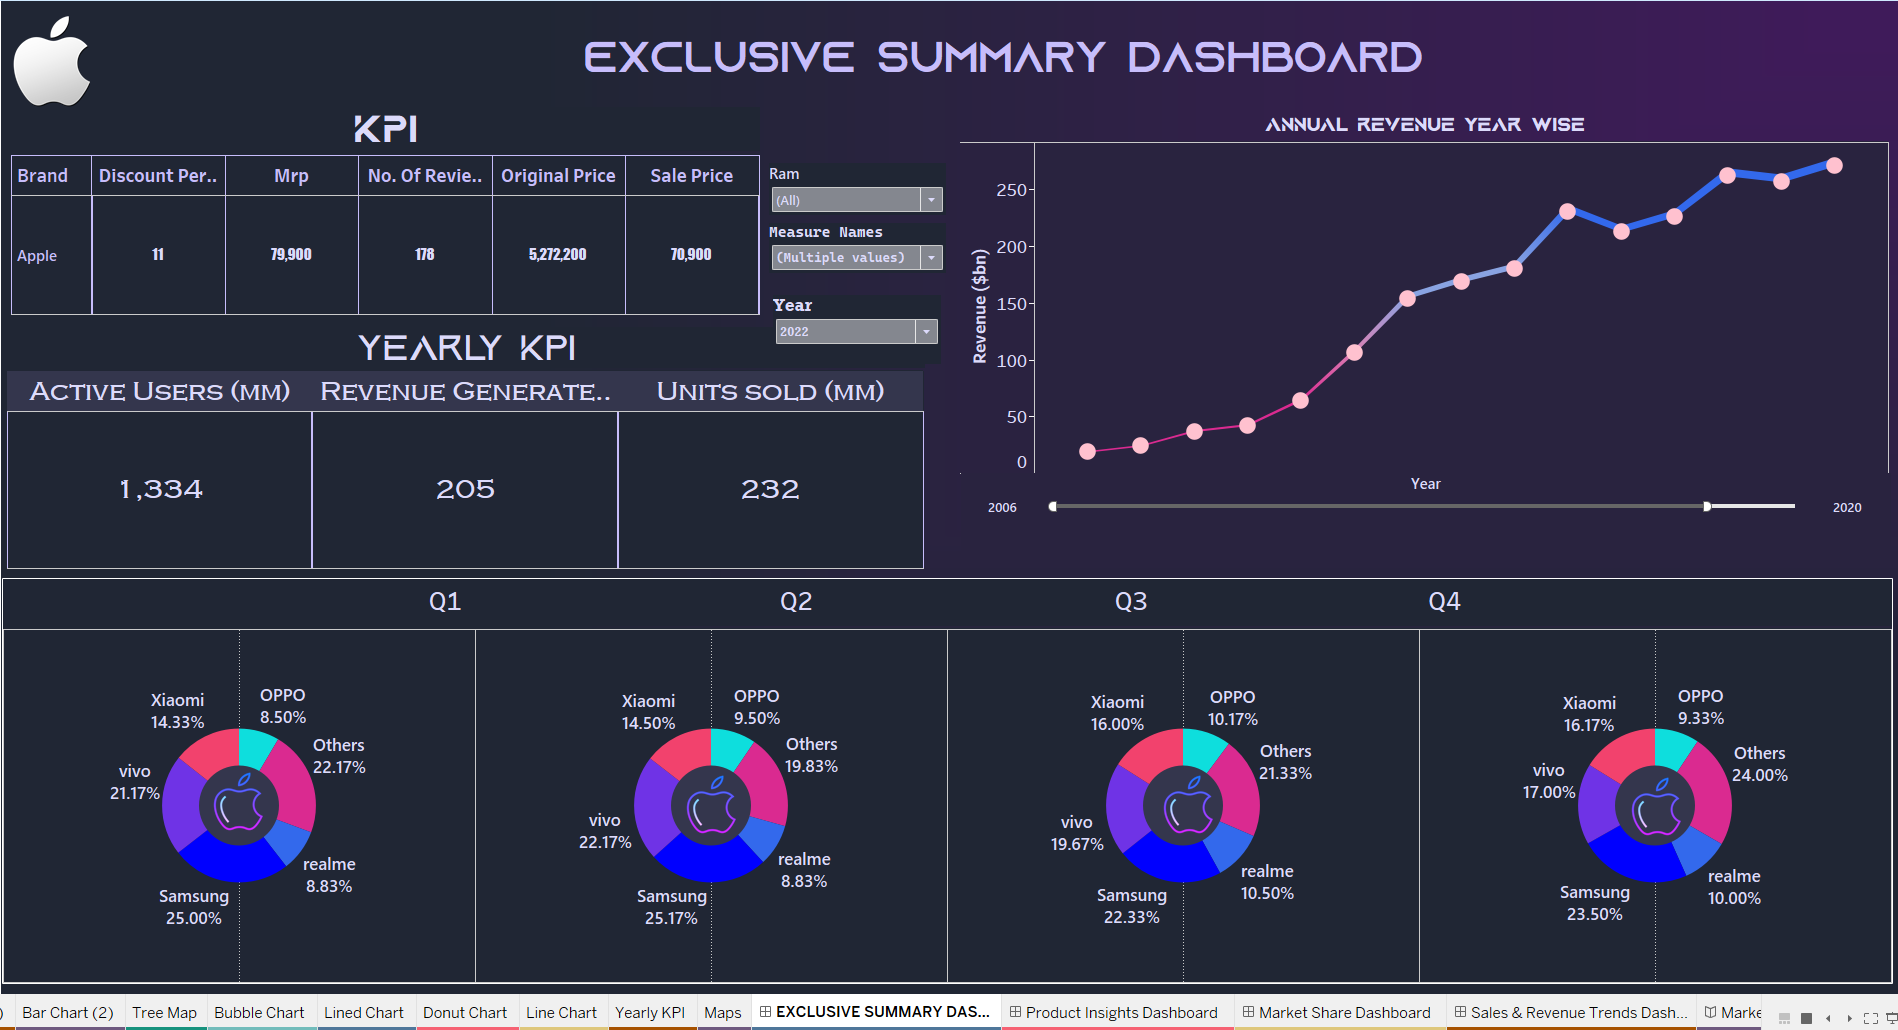

This screenshot's page, from the dashboard's own definition file:
{"tool":"tableau","page":{"name":"EXCLUSIVE SUMMARY DASHBOARD","canvas":[1000,1000],"units":"permille","ordinal":0},"visuals":[{"type":"image","box":[4.2,8.1,991.7,983.9]},{"type":"image","param":"Image/apple-logo-silver-gradient-background-ucqyu9mach40quya.png","box":[10.5,13.9,48,92.9]},{"type":"text","box":[61.6,18.6,937.2,81.3]},{"type":"worksheet","title":"KPI","mark":"Automatic","rows":["Brand"],"box":[12.7,106.9,390.5,214.9]},{"type":"worksheet","title":"Line Chart","mark":"Automatic","rows":["Revenue ($bn)","Revenue ($bn)"],"cols":["Year"],"box":[507.4,110.3,483.9,365.9]},{"type":"filter","title":"KPI","param":"[federated.0kz2elg1fpkxe515iu2i908za3b5].[none:Ram:nk]","box":[405.6,159.1,96.3,60.4]},{"type":"filter","title":"KPI","param":"[federated.0kz2elg1fpkxe515iu2i908za3b5].[:Measure Names]","box":[405.6,219.6,96.3,58.4]},{"type":"filter","title":"Yearly KPI","param":"[federated.13r0o2x0bvhuki190xwcz0apwvkh].[none:Year:ok]","box":[409.9,296.2,87.6,69.7]},{"type":"worksheet","title":"Yearly KPI","mark":"Automatic","box":[11.2,328.7,478.3,243.9]},{"type":"filter","title":"Line Chart","param":"[federated.1h6ibz302k1zxz15kuusk0qlljiq].[none:Year:qk]","box":[507.7,475,484.2,83.6]},{"type":"worksheet","title":"Donut Chart","mark":"Pie","cols":["Calculation_525795279736291330","Calculation_525795279737851915","Calculation_525795279736291330","Calculation_525795279737851915","Calculation_525795279736291330","Calculation_525795279737851915","Calculation_525795279736291330","Calculation_525795279737458693"],"box":[8.4,580.7,984.9,408.8]},{"type":"image","param":"Image/download.png","box":[102.8,772.4,57.3,67.4]},{"type":"image","param":"Image/download.png","box":[348.6,775.8,57.6,67.4]},{"type":"image","param":"Image/download.png","box":[596.9,775.8,57.6,67.4]},{"type":"image","param":"Image/download.png","box":[840.9,777,57.6,67.4]}]}

Visuals, with their boxes on the dashboard's canvas, which has no fixed pixel size, in thousandths of its width and height (x1, y1, x2, y2). These are canvas units, not pixel positions in the 1898x1030 screenshot, which may show the page scaled, cropped or inside an application window:
image: <bbox>4, 8, 996, 992</bbox>
image: <bbox>10, 14, 58, 107</bbox>
text: <bbox>62, 19, 999, 100</bbox>
"KPI" worksheet: <bbox>13, 107, 403, 322</bbox>
"Line Chart" worksheet: <bbox>507, 110, 991, 476</bbox>
"KPI" filter: <bbox>406, 159, 502, 220</bbox>
"KPI" filter: <bbox>406, 220, 502, 278</bbox>
"Yearly KPI" filter: <bbox>410, 296, 498, 366</bbox>
"Yearly KPI" worksheet: <bbox>11, 329, 490, 573</bbox>
"Line Chart" filter: <bbox>508, 475, 992, 559</bbox>
"Donut Chart" worksheet (Pie marks): <bbox>8, 581, 993, 990</bbox>
image: <bbox>103, 772, 160, 840</bbox>
image: <bbox>349, 776, 406, 843</bbox>
image: <bbox>597, 776, 654, 843</bbox>
image: <bbox>841, 777, 898, 844</bbox>
